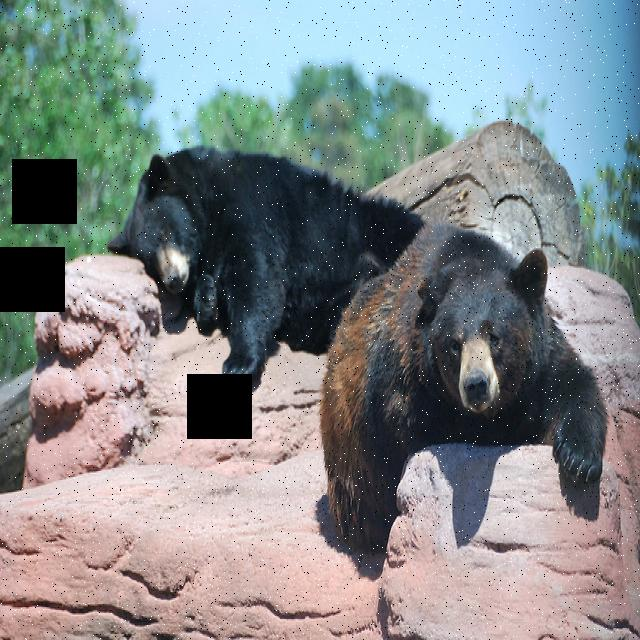Bear: (323, 192, 614, 550), (110, 132, 413, 392)
